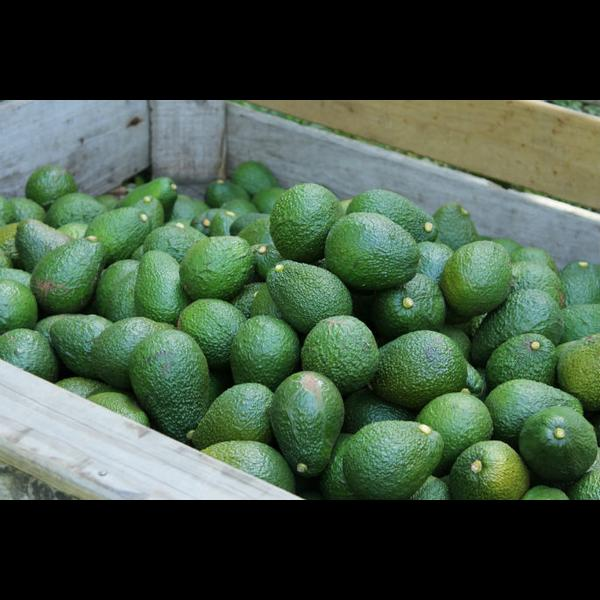unripe: (128, 329, 209, 445), (344, 420, 444, 499), (270, 371, 344, 477), (324, 212, 419, 291), (372, 330, 468, 408), (470, 289, 564, 367), (485, 379, 583, 447), (266, 260, 353, 335), (415, 392, 494, 473), (520, 406, 597, 488), (268, 183, 345, 264), (301, 315, 378, 393), (439, 240, 512, 321), (30, 235, 105, 313), (191, 382, 275, 450), (230, 314, 301, 392), (91, 316, 164, 388), (345, 189, 439, 244), (200, 440, 294, 494), (177, 298, 248, 369), (180, 236, 256, 301), (449, 440, 527, 499), (135, 250, 193, 328), (375, 272, 446, 332), (50, 315, 115, 380), (484, 333, 558, 389), (84, 207, 150, 265), (15, 218, 73, 275), (113, 176, 178, 222), (432, 203, 481, 250), (561, 259, 600, 305), (205, 179, 252, 207)
